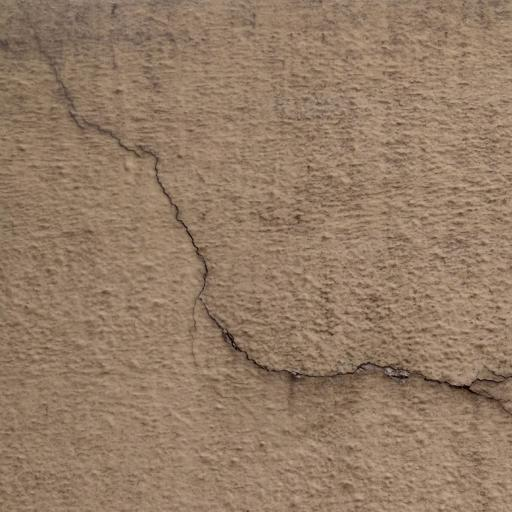minor_crack: (20, 0, 512, 431)
